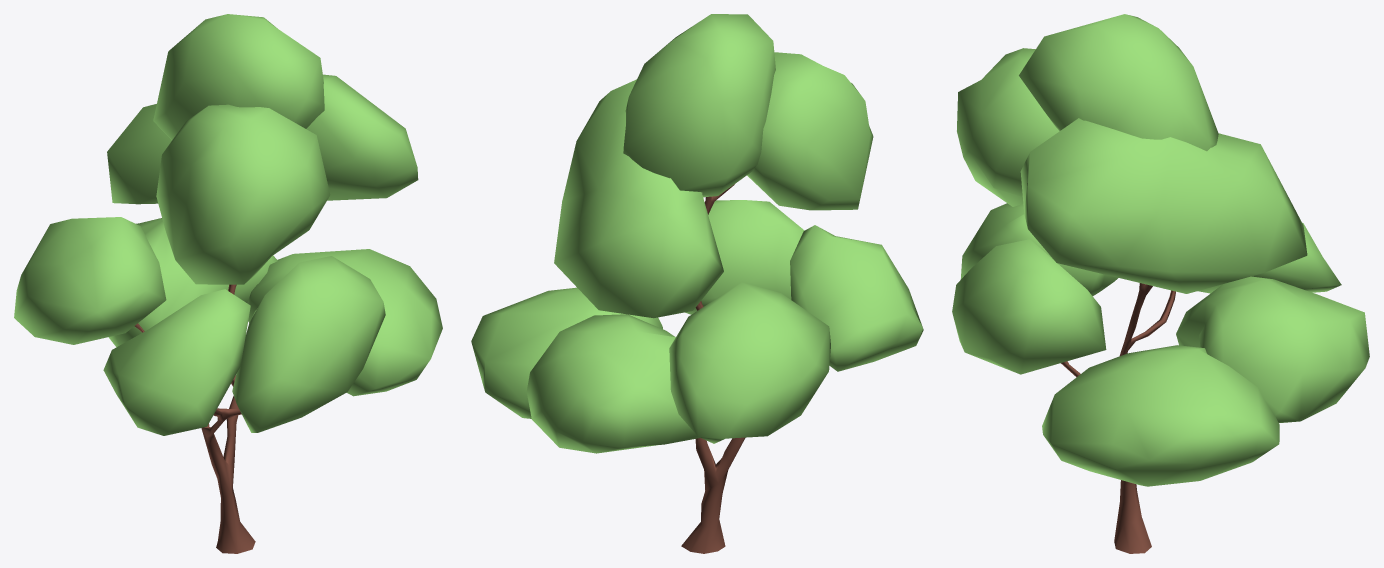
The model's file is Tree_3.fbx.
The picture shows the model from 3 angles, left to right: view 1: azimuth 30°, elevation 25°; view 2: azimuth 150°, elevation 25°; view 3: azimuth 270°, elevation 25°; orthographic projection. The views are drawn at different scales.
Visible parts, largest first — view 1: tree_001; view 2: tree_001; view 3: tree_001.
Part boxes in pixels (bbox=[...]): tree_001: bbox=[14, 14, 442, 553]; tree_001: bbox=[471, 14, 923, 553]; tree_001: bbox=[952, 14, 1369, 553].
Size of the model in its own units: 1652 by 2238 by 1613.
